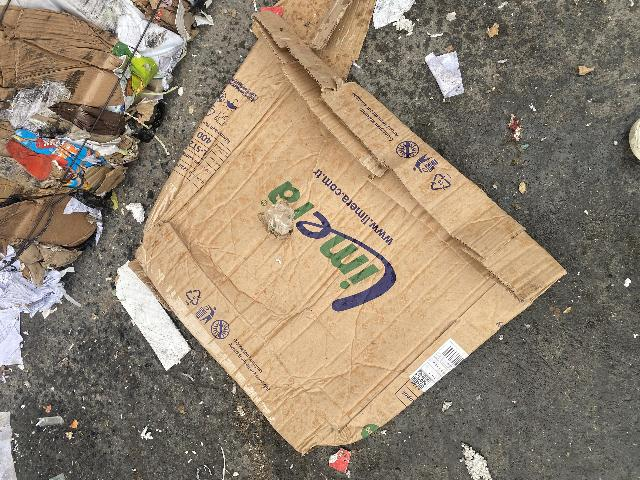Kagit: (111, 0, 569, 460), (2, 0, 200, 286)
